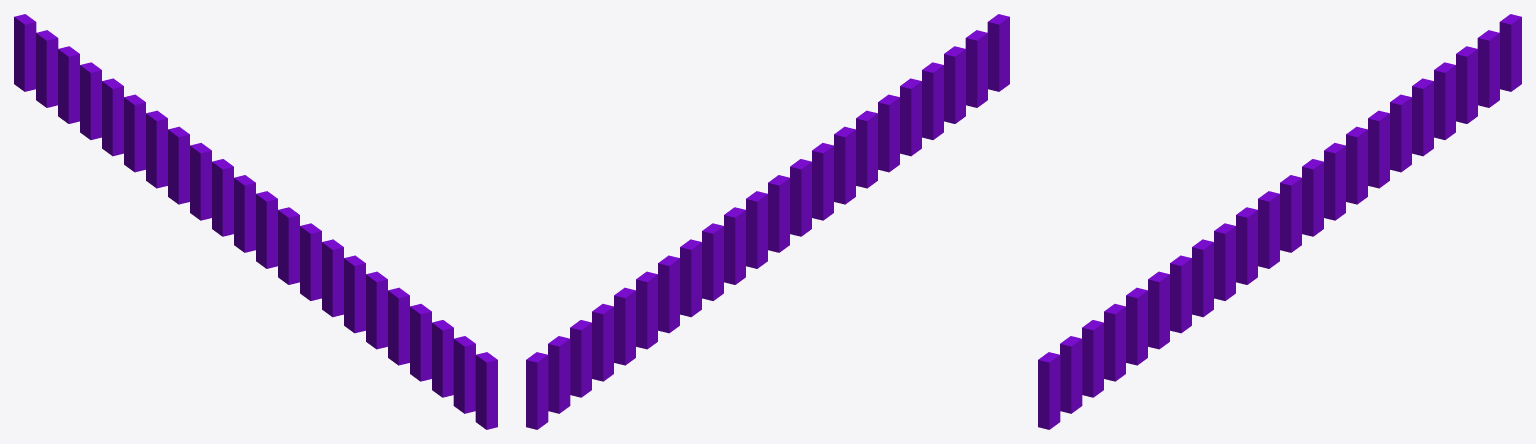
The model's file is Rails.fbx.
3 views of the same model, side by side, from view 1: azimuth 30°, elevation 25°; view 2: azimuth 150°, elevation 25°; view 3: azimuth 330°, elevation 25° (orthographic).
Parts seen in each view (by area): view 1: Cube.004, Cube.003, Cube.032, Cube.033, Cube.016, Cube.021, Cube.022, Cube.023, Cube.024, Cube.029, Cube.015, Cube.018 (+10 smaller); view 2: Cube.032, Cube.033, Cube.004, Cube.003, Cube.016, Cube.021, Cube.022, Cube.023, Cube.024, Cube.029, Cube.015, Cube.018 (+10 smaller); view 3: Cube.004, Cube.003, Cube.032, Cube.033, Cube.016, Cube.021, Cube.022, Cube.023, Cube.024, Cube.029, Cube.015, Cube.018 (+10 smaller).
Boxes of the visible parts, bbox=[...] form: Cube.004: bbox=[453, 336, 475, 413]; Cube.003: bbox=[475, 352, 497, 429]; Cube.032: bbox=[36, 30, 58, 107]; Cube.033: bbox=[14, 14, 36, 91]; Cube.016: bbox=[388, 287, 409, 365]; Cube.021: bbox=[278, 207, 299, 284]; Cube.022: bbox=[256, 191, 277, 268]; Cube.023: bbox=[234, 175, 255, 252]; Cube.024: bbox=[212, 159, 233, 236]; Cube.029: bbox=[102, 78, 123, 156]; Cube.015: bbox=[410, 304, 431, 381]; Cube.018: bbox=[344, 255, 365, 333]; Cube.032: bbox=[548, 336, 570, 413]; Cube.033: bbox=[526, 352, 548, 429]; Cube.004: bbox=[965, 30, 987, 107]; Cube.003: bbox=[987, 14, 1009, 91]; Cube.016: bbox=[900, 78, 921, 156]; Cube.021: bbox=[790, 159, 811, 236]; Cube.022: bbox=[768, 175, 789, 252]; Cube.023: bbox=[746, 191, 767, 268]; Cube.024: bbox=[724, 207, 745, 284]; Cube.029: bbox=[614, 287, 635, 365]; Cube.015: bbox=[922, 62, 943, 139]; Cube.018: bbox=[856, 110, 877, 188]; Cube.004: bbox=[1060, 336, 1082, 413]; Cube.003: bbox=[1038, 352, 1060, 429]; Cube.032: bbox=[1477, 30, 1499, 107]; Cube.033: bbox=[1499, 14, 1521, 91]; Cube.016: bbox=[1126, 287, 1147, 365]; Cube.021: bbox=[1236, 207, 1257, 284]; Cube.022: bbox=[1258, 191, 1279, 268]; Cube.023: bbox=[1280, 175, 1301, 252]; Cube.024: bbox=[1302, 159, 1323, 236]; Cube.029: bbox=[1412, 78, 1433, 156]; Cube.015: bbox=[1104, 304, 1125, 381]; Cube.018: bbox=[1170, 255, 1191, 333].
Size of the model in its own units: 39.01 by 220 by 2798.
